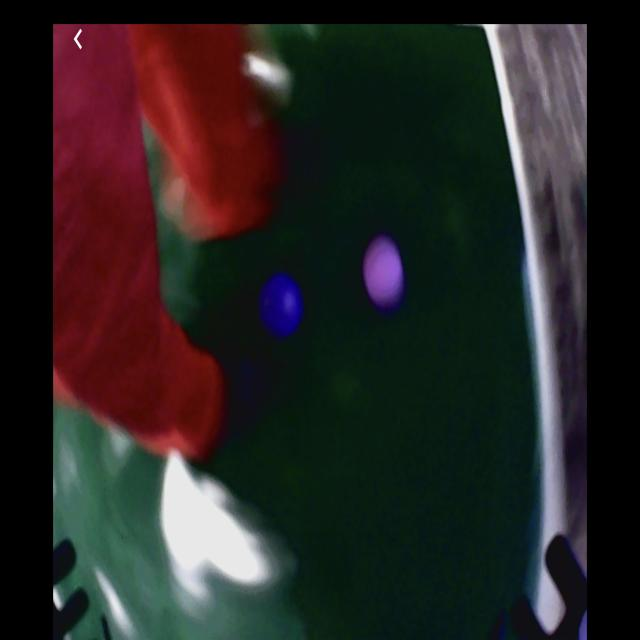ball: (365, 242, 406, 307), (263, 274, 303, 338)
